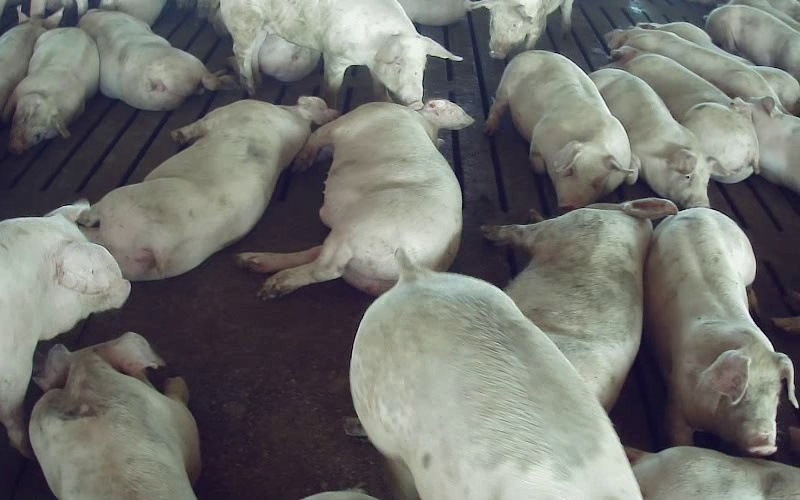pig: (350, 253, 639, 499), (78, 97, 336, 280), (484, 198, 676, 410), (645, 207, 795, 454), (0, 201, 129, 455), (29, 332, 200, 499), (221, 0, 460, 108), (486, 51, 637, 209), (611, 46, 758, 182), (590, 68, 710, 208), (79, 10, 233, 110), (606, 27, 779, 103), (3, 27, 99, 153), (705, 5, 799, 81), (0, 7, 62, 114)
